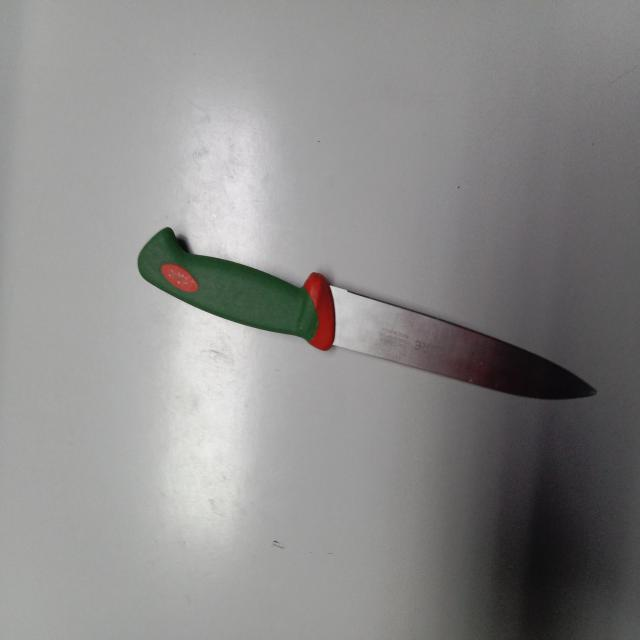Knife: (137, 227, 597, 399)
